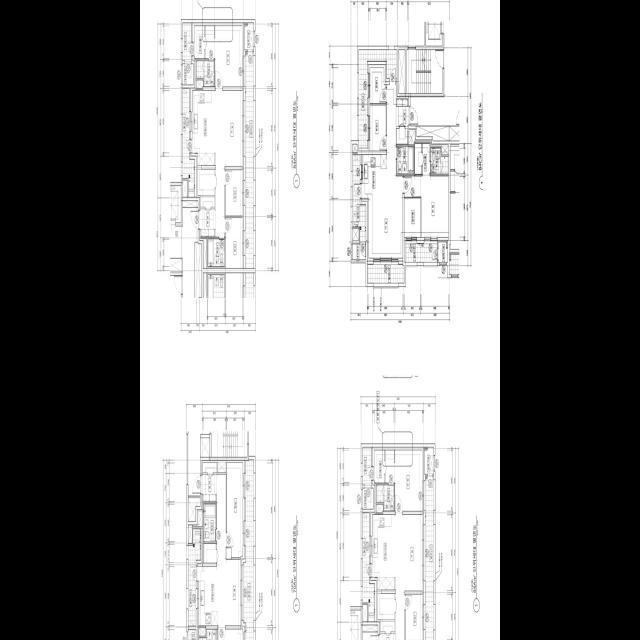background: (140, 0, 500, 640)
space_balconi: (359, 49, 397, 147), (243, 459, 254, 640), (245, 51, 254, 268), (425, 475, 434, 640), (363, 512, 375, 621), (183, 88, 195, 196), (188, 528, 201, 625), (353, 154, 366, 241), (368, 264, 404, 282), (406, 243, 438, 262), (183, 22, 191, 61), (363, 447, 371, 485)
space_bedroom: (404, 175, 448, 236), (215, 25, 242, 86), (395, 450, 422, 511), (227, 462, 243, 557), (226, 217, 242, 268), (406, 594, 422, 640), (226, 169, 242, 215), (370, 104, 386, 150), (370, 67, 386, 103), (218, 629, 243, 640)
space_dressroom: (194, 25, 214, 58), (374, 450, 394, 482), (415, 143, 430, 174)
space_front: (201, 462, 217, 501), (199, 208, 216, 236), (396, 98, 408, 126), (379, 633, 396, 640)
space_kitchen: (372, 514, 395, 589), (192, 90, 215, 165), (197, 566, 217, 625), (361, 154, 387, 198)
space_living_room: (369, 84, 403, 257), (215, 90, 242, 236), (217, 474, 241, 625), (395, 514, 422, 640)
space_multipurpose_space: (404, 198, 420, 237)
space_other: (198, 168, 215, 195), (417, 126, 449, 140), (378, 593, 395, 619), (188, 497, 200, 521), (399, 49, 405, 93), (203, 543, 216, 562), (363, 488, 373, 509), (183, 63, 193, 84), (353, 244, 366, 259), (200, 437, 210, 456), (397, 128, 408, 143), (380, 621, 395, 631), (201, 196, 215, 206), (183, 200, 198, 207), (363, 625, 378, 631), (204, 238, 207, 268), (188, 629, 196, 640), (409, 130, 415, 144), (218, 462, 226, 472), (198, 511, 203, 526), (188, 525, 192, 543), (353, 228, 359, 240), (363, 604, 367, 621), (183, 180, 187, 196), (196, 79, 203, 88), (199, 627, 206, 635), (376, 504, 383, 512), (442, 146, 448, 154), (353, 144, 357, 152)
space_outdoor_room: (244, 22, 254, 49), (424, 447, 434, 473), (438, 241, 448, 262)
space_staircase: (407, 49, 442, 92)
space_toilet: (203, 503, 216, 541), (397, 145, 414, 174), (376, 484, 394, 511), (208, 238, 225, 266), (196, 60, 214, 86), (431, 147, 448, 174), (199, 629, 217, 640)
